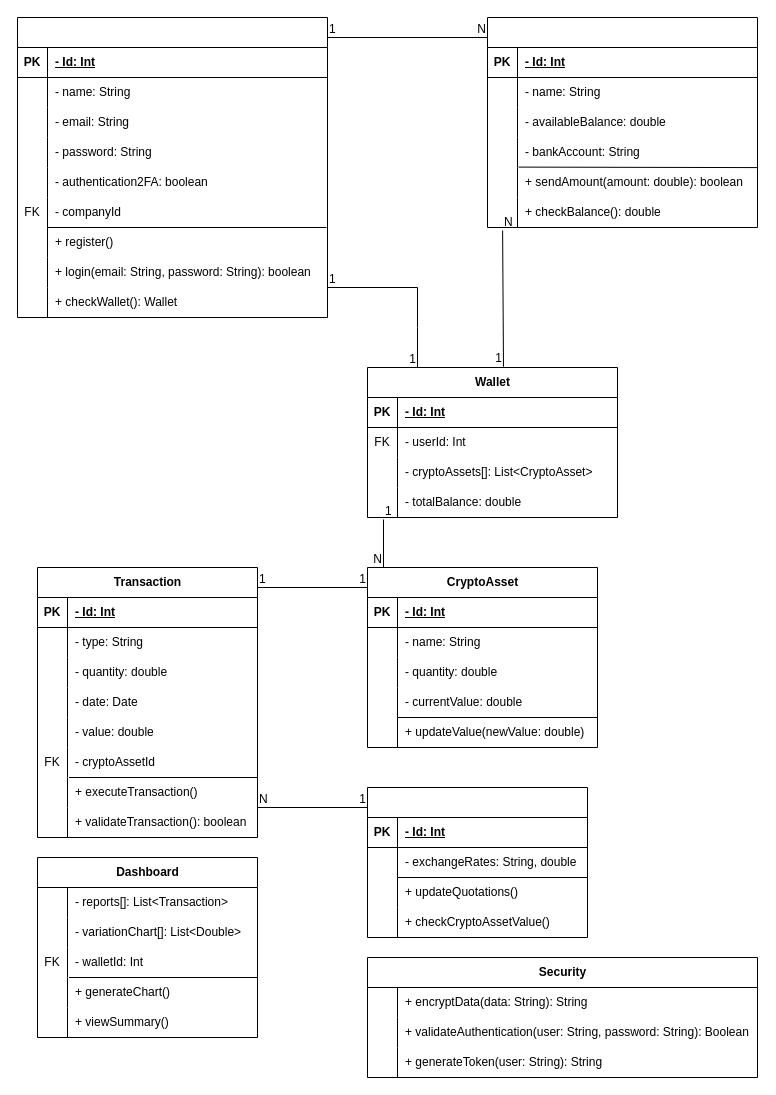
This 776x1095 diagram has some shape labels left out. The box of each missing label's shape, as (x1, y1, x2, y2) in pixels:
Company: (486, 16, 758, 228)
Market: (366, 786, 588, 938)
User: (16, 16, 328, 318)
